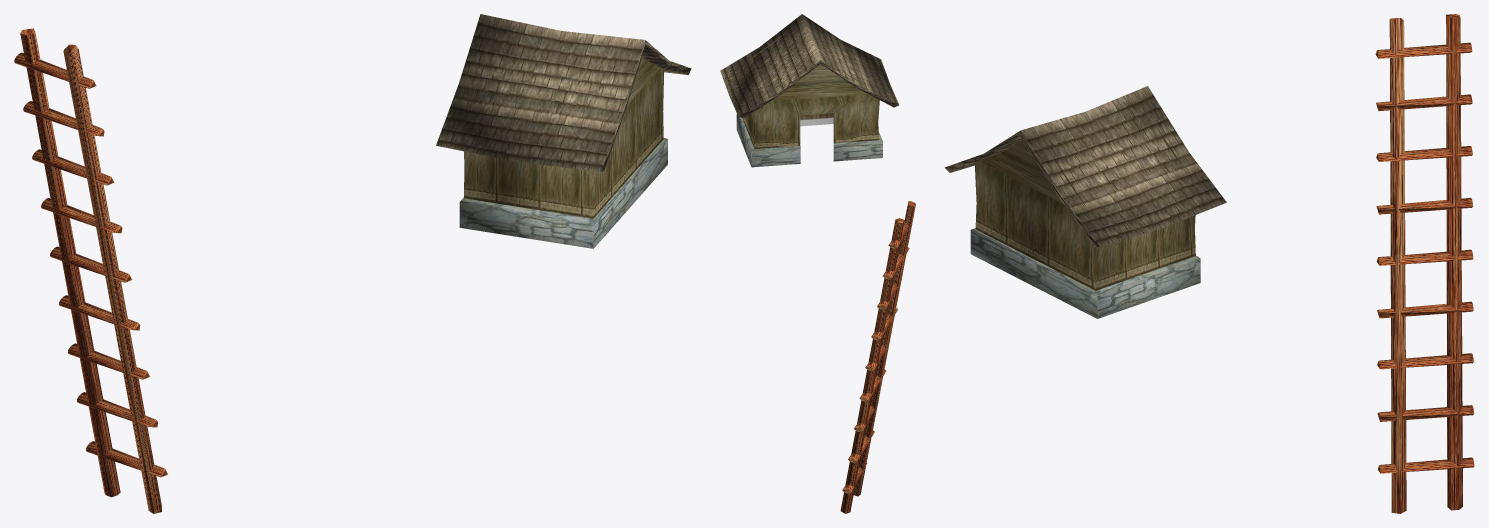
File: lom_model6.fbx
3 views of the same model, side by side, from view 1: azimuth 30°, elevation 25°; view 2: azimuth 150°, elevation 25°; view 3: azimuth 270°, elevation 25° (orthographic). The views are drawn at different scales.
Visible parts, largest first — view 1: chatka6, zebrik6; view 2: chatka6, zebrik6; view 3: chatka6, zebrik6.
Boxes of the visible parts, bbox=[...] form: chatka6: bbox=[436, 14, 691, 248]; zebrik6: bbox=[14, 28, 167, 513]; chatka6: bbox=[720, 14, 898, 167]; zebrik6: bbox=[840, 201, 915, 513]; chatka6: bbox=[944, 86, 1226, 318]; zebrik6: bbox=[1375, 14, 1474, 513].
Size of the model in its own units: 153 by 168 by 156.
2 materials, 2 textured.
